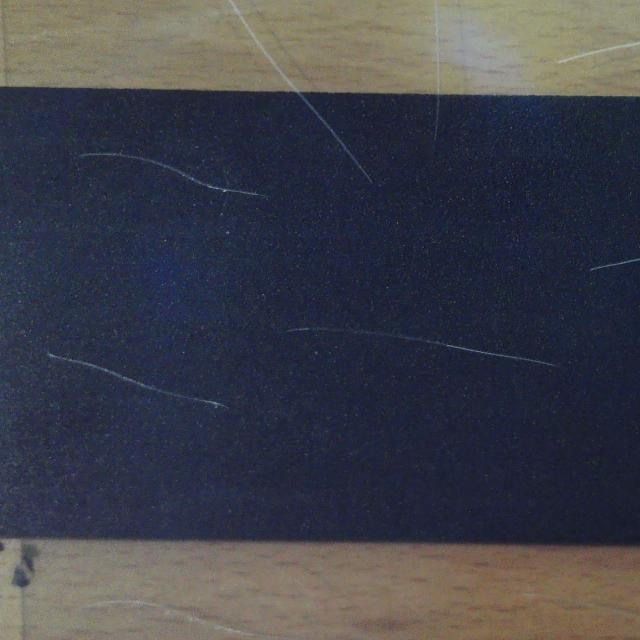defect: (290, 322, 556, 370), (47, 350, 230, 412), (81, 149, 265, 203), (299, 91, 372, 181), (588, 254, 640, 275), (433, 96, 445, 145)
